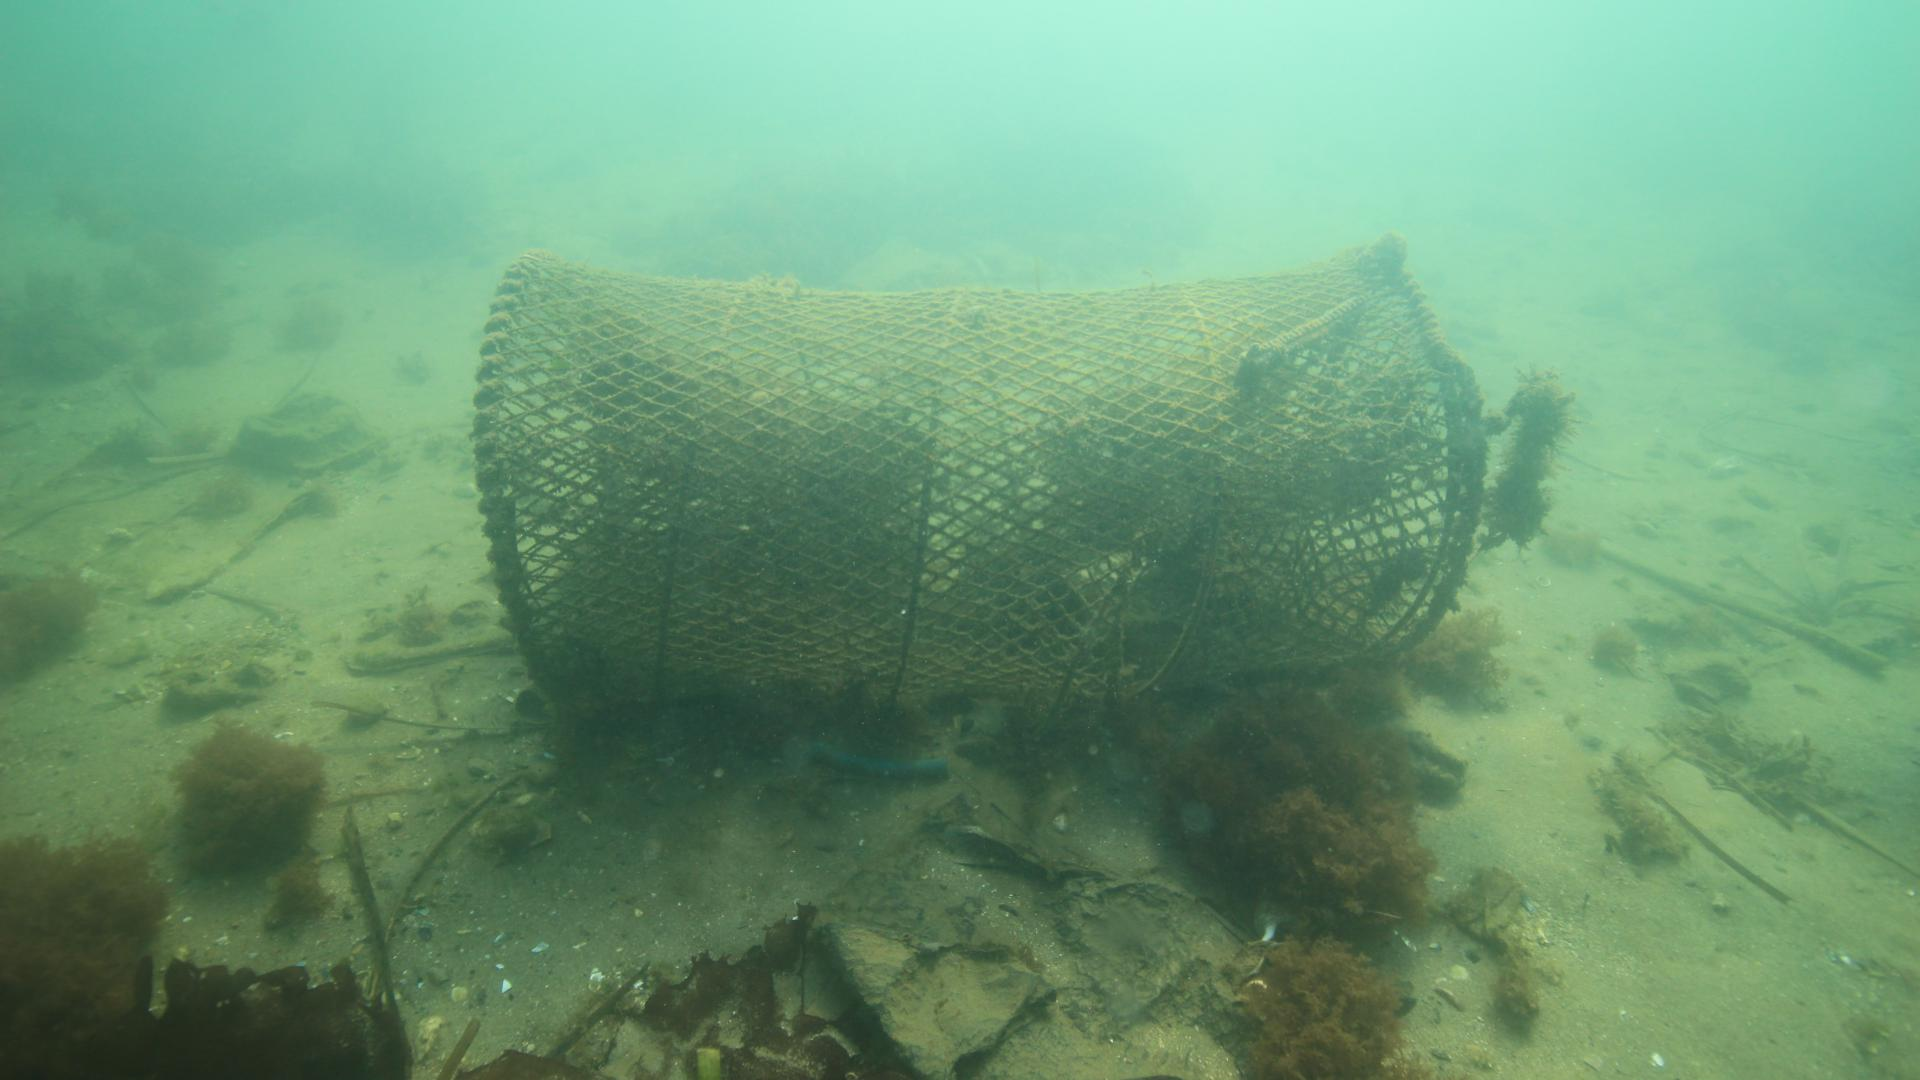spring fish trap: (467, 247, 1485, 725)
